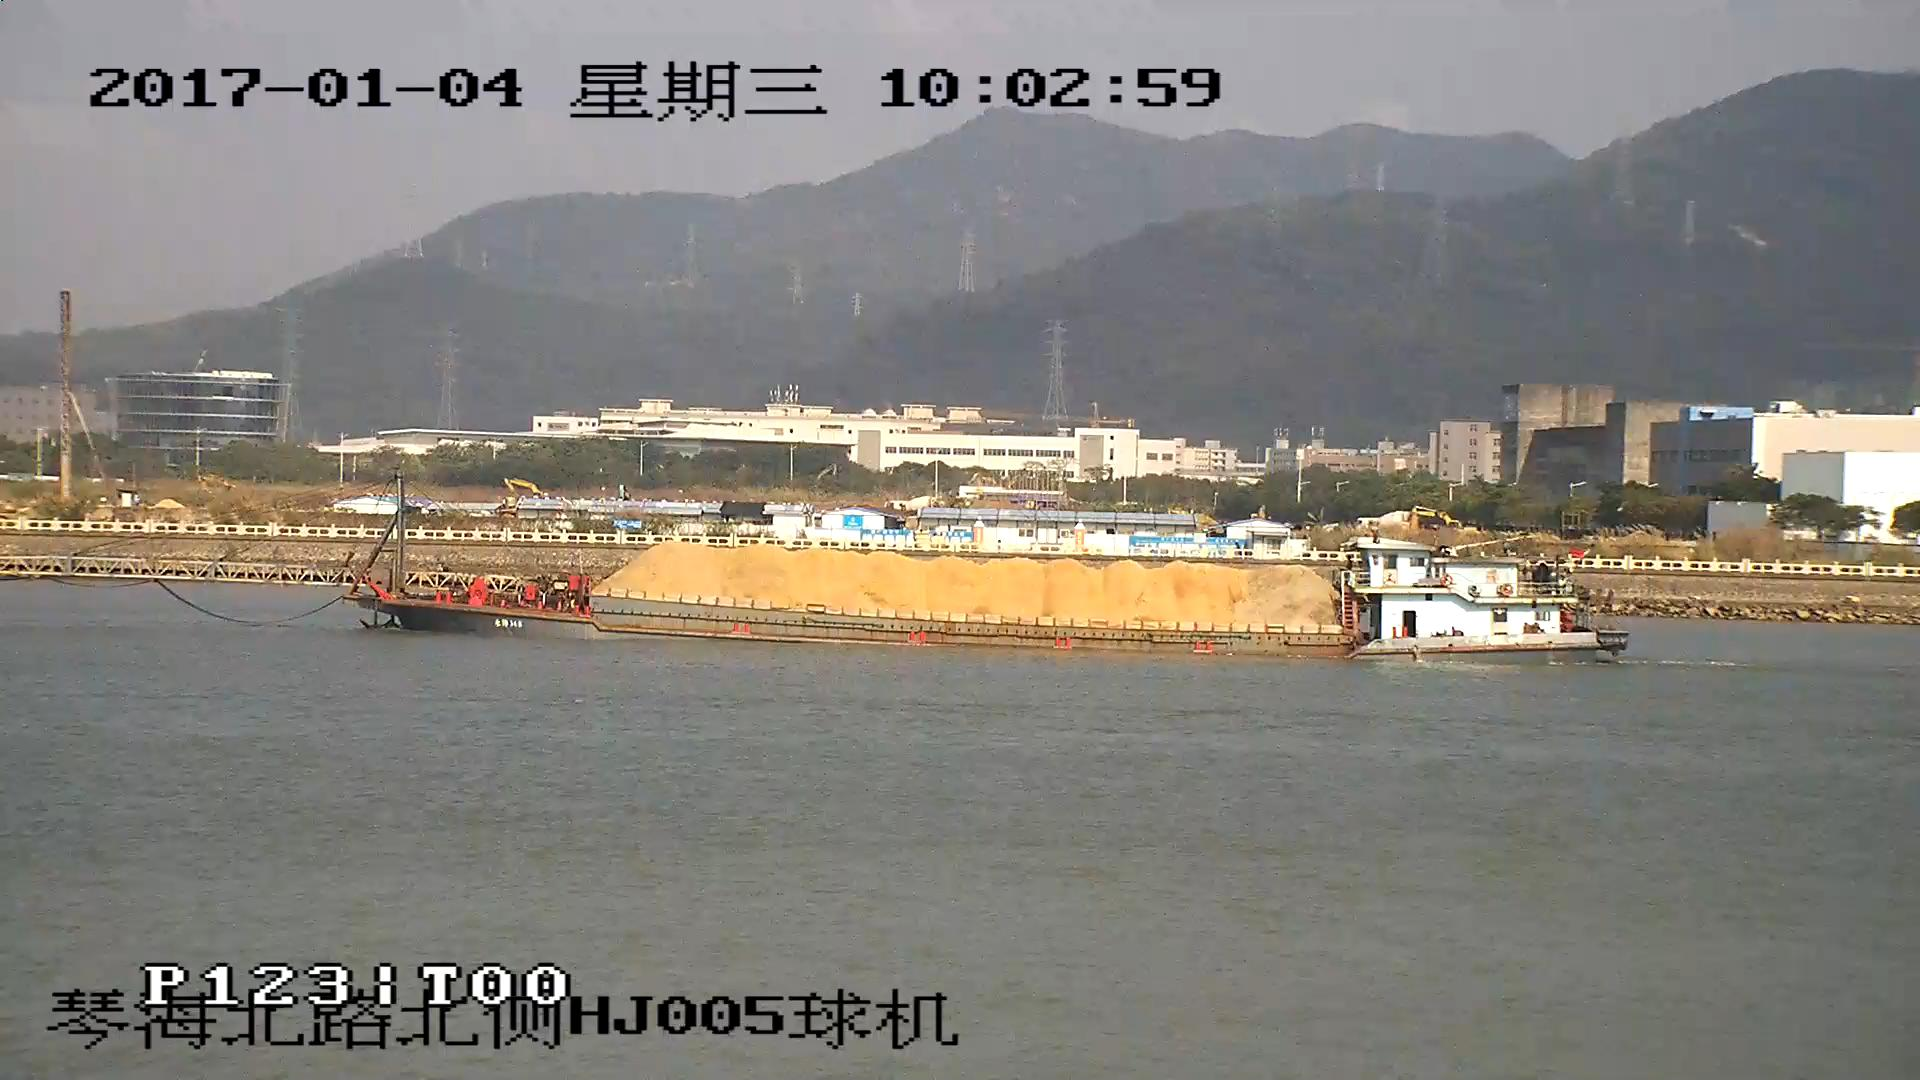ore carrier: (1, 472, 1632, 669)
